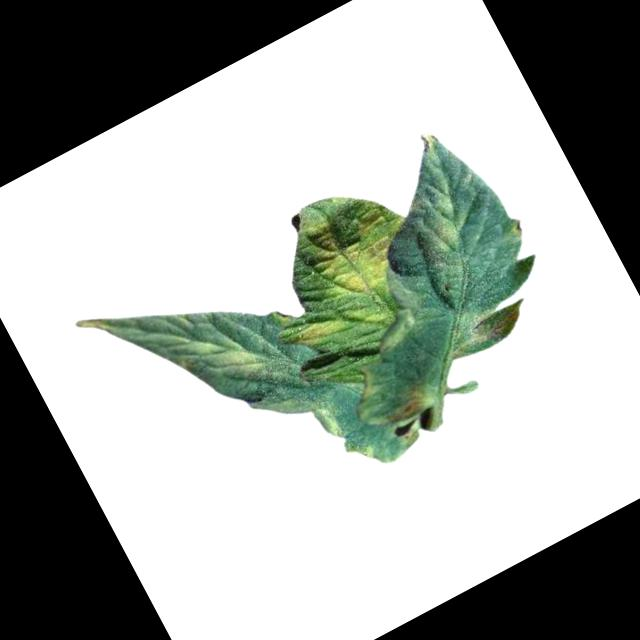Leaf_Mold: (291, 179, 425, 313), (183, 312, 271, 401), (395, 176, 481, 266), (448, 287, 528, 355), (377, 380, 436, 429), (292, 305, 349, 354)
